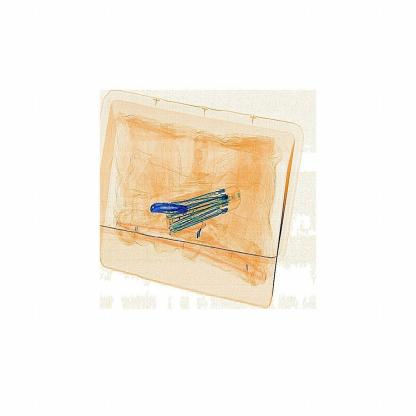knife: (144, 198, 193, 220)
